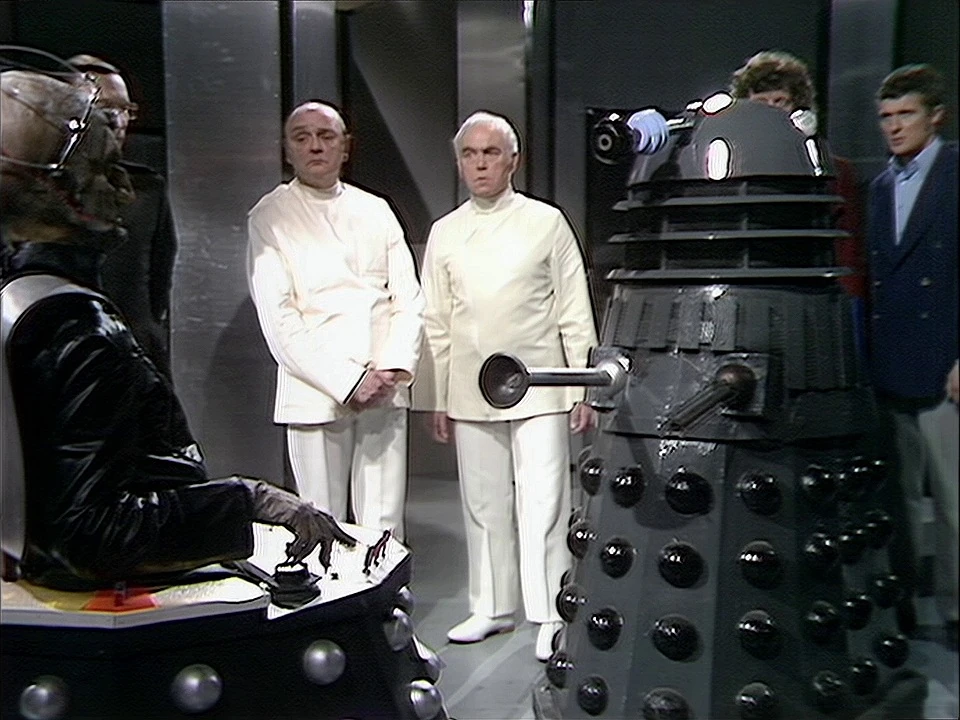Dalek: (545, 63, 910, 720)
